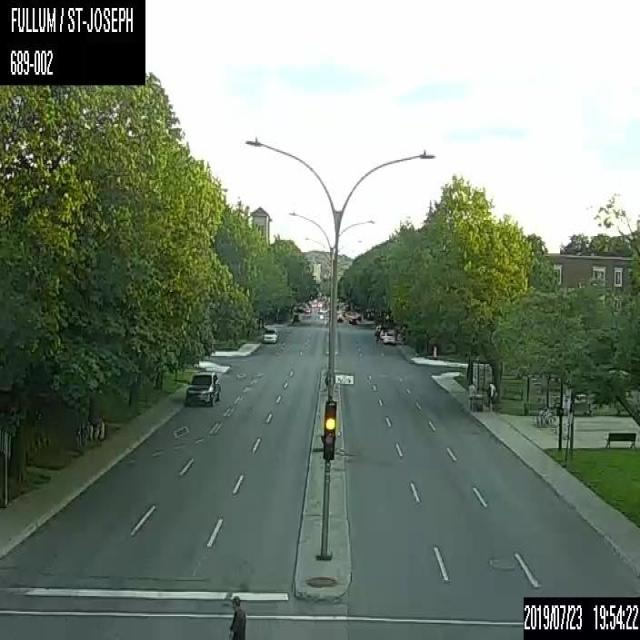pedestrian: (226, 594, 248, 638), (464, 382, 476, 414), (486, 382, 498, 414), (374, 324, 379, 341)
vehicle: (184, 369, 221, 407), (261, 325, 277, 343), (383, 331, 394, 344), (379, 328, 388, 338)
